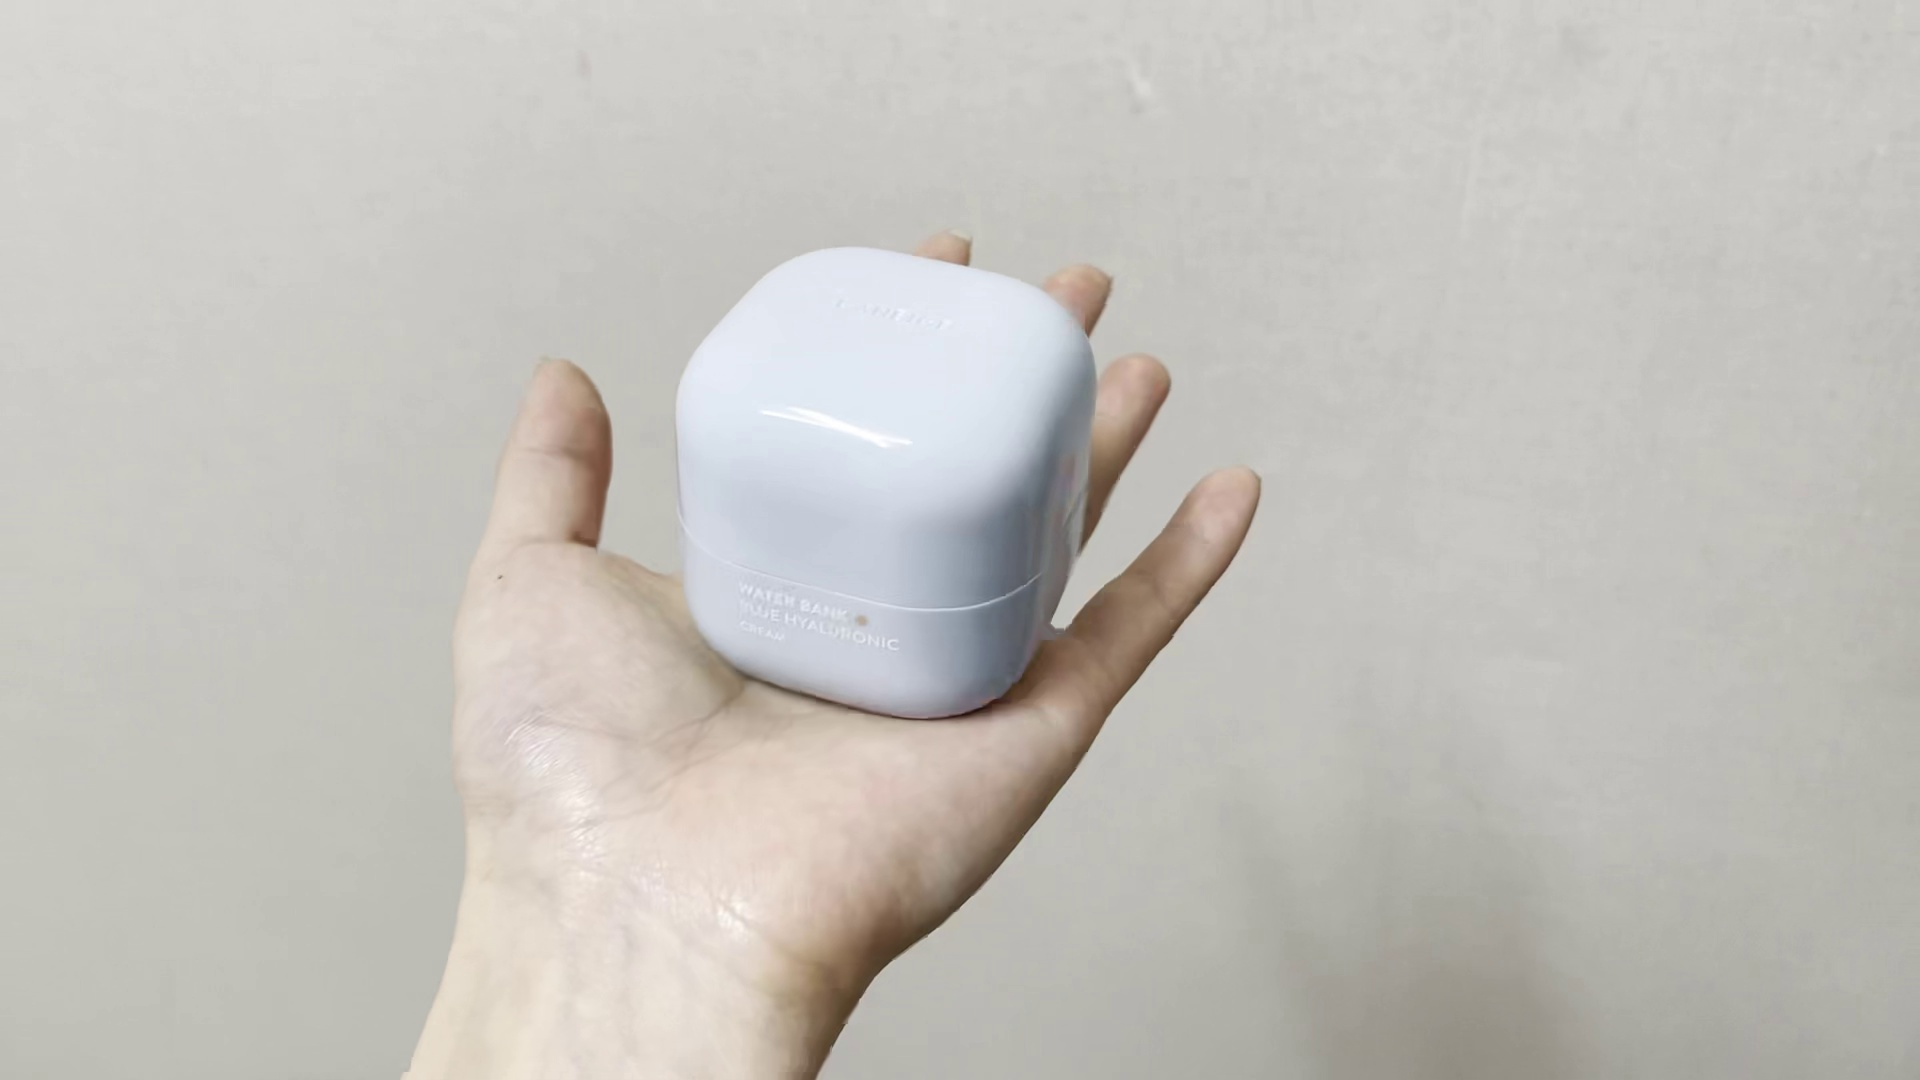cream: (673, 233, 1097, 717)
